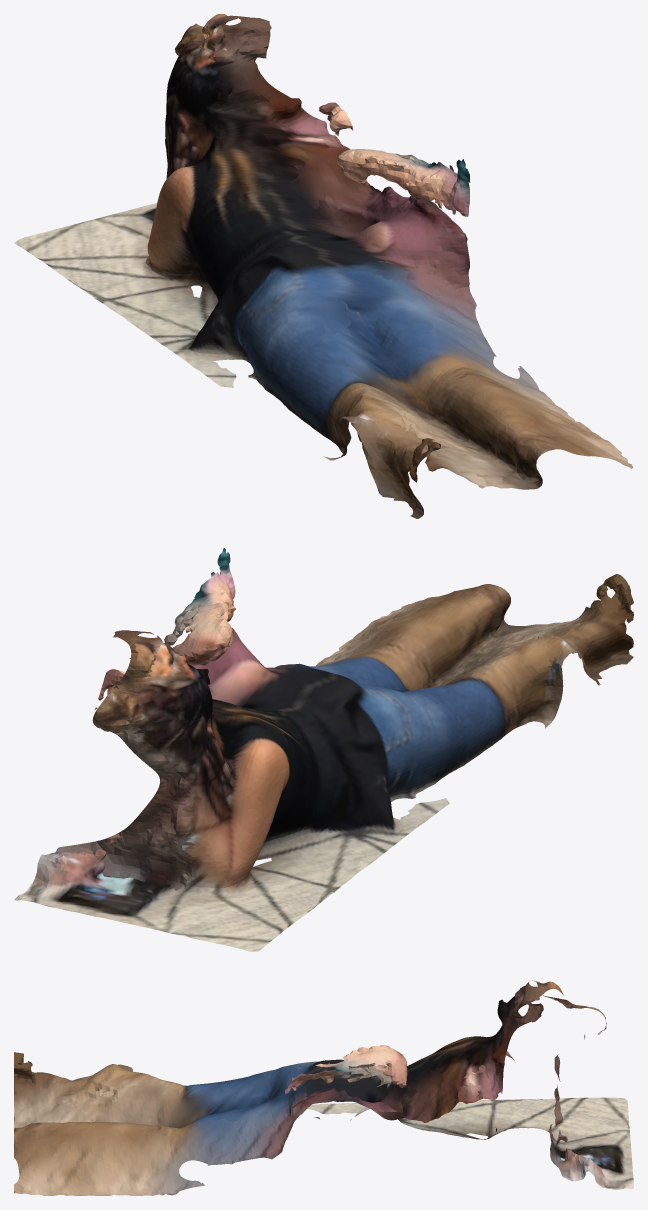
3 views of the same model, one above another, from view 1: azimuth 30°, elevation 25°; view 2: azimuth 150°, elevation 25°; view 3: azimuth 270°, elevation 25° (orthographic). The views are drawn at different scales.
Bounding box in the file's own units: 0.5889 × 0.5197 × 1.62.
Materials: 1 (1 with a texture image).
